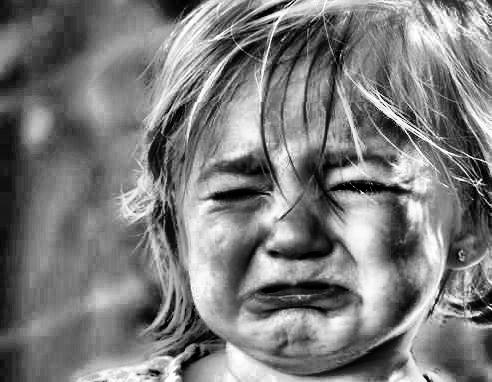sad: (186, 103, 432, 353)
